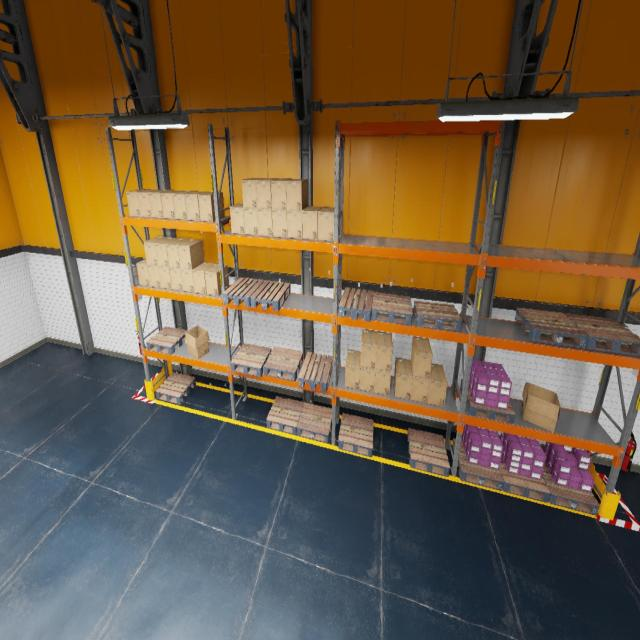box: (522, 382, 560, 432), (411, 336, 432, 379), (428, 363, 447, 407), (178, 238, 204, 270), (204, 263, 229, 296), (394, 357, 413, 400), (185, 325, 209, 359), (198, 192, 224, 222), (411, 360, 429, 403), (172, 191, 198, 220), (166, 238, 191, 268), (192, 262, 215, 294), (137, 190, 163, 218), (185, 191, 210, 220), (155, 237, 179, 267), (286, 178, 308, 210), (270, 178, 292, 210), (126, 189, 152, 216), (144, 237, 168, 266), (160, 190, 184, 219), (360, 329, 377, 369), (149, 190, 173, 218), (302, 207, 322, 240), (256, 178, 278, 208), (242, 178, 264, 208), (376, 331, 392, 372), (345, 349, 361, 389), (318, 207, 334, 241), (257, 208, 273, 236), (230, 203, 244, 234), (374, 370, 391, 395), (272, 209, 287, 237), (287, 210, 302, 238), (136, 259, 150, 286), (244, 208, 258, 235), (360, 367, 375, 392), (169, 267, 183, 291), (180, 269, 194, 292), (158, 266, 171, 289), (147, 265, 160, 287)
pallets: (564, 313, 640, 355), (542, 463, 600, 515), (515, 307, 588, 348), (452, 438, 504, 491), (460, 378, 515, 424), (500, 456, 550, 502), (407, 428, 450, 477), (413, 300, 462, 332), (338, 413, 373, 457), (266, 396, 304, 435), (296, 402, 332, 443), (371, 292, 413, 325), (231, 343, 271, 377), (298, 352, 332, 392), (264, 347, 303, 381), (155, 372, 196, 404), (250, 280, 290, 311), (223, 277, 264, 307), (339, 287, 373, 322), (146, 326, 188, 354)
